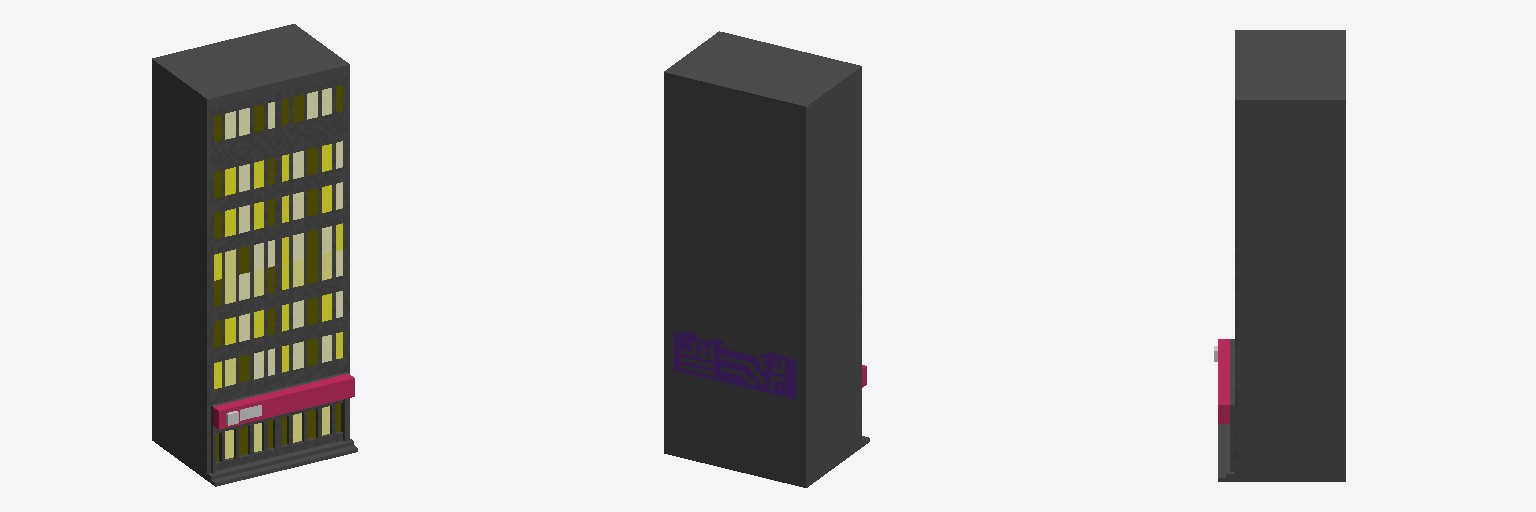
The picture shows the model from 3 angles: view 1: azimuth 30°, elevation 25°; view 2: azimuth 150°, elevation 25°; view 3: azimuth 270°, elevation 25°; orthographic projection.
Parts seen in each view (by area): view 1: object 1; view 2: object 1; view 3: object 1.
Part boxes in pixels (x1,y1,x2,y2): object 1: (152, 24, 357, 486); object 1: (664, 31, 869, 487); object 1: (1214, 30, 1345, 481).
Bounding box in the file's own units: 4 × 10.2 × 3.2.
1 materials, 1 textured.